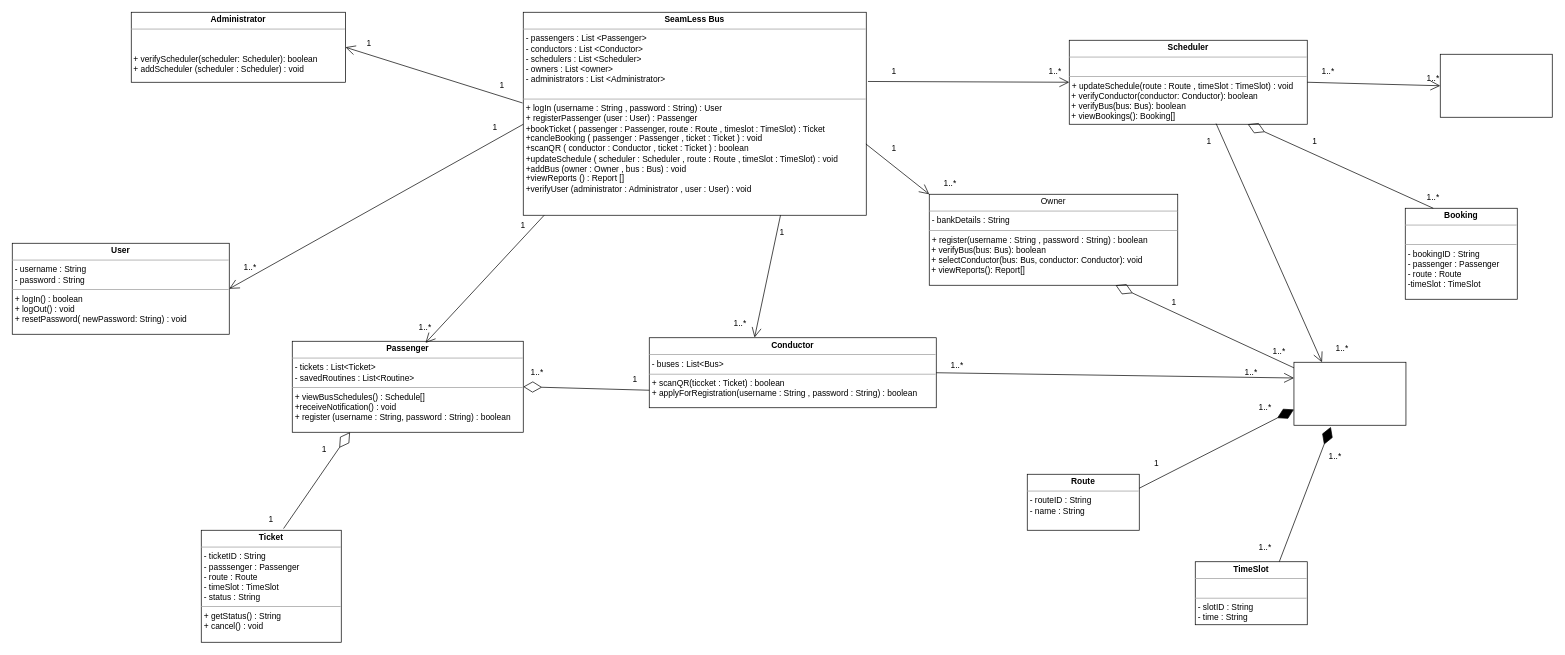
This 1565x655 diagram has some shape labels left out. The centre of each missing label's shape, as x and y in pixels:
Bus - busID : String - name : String: point 1349,393
Report - reportID : String - content : String: point 1496,85
